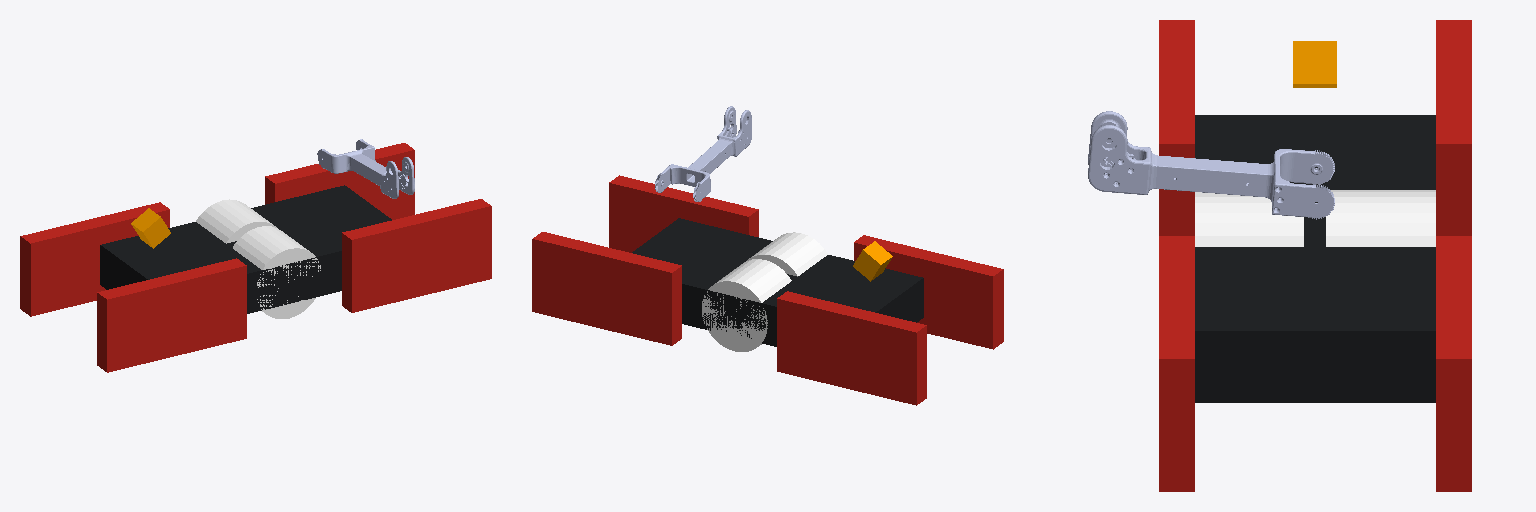
robot.urdf — Lotti:
<?xml version="1.0" ?>
<!-- =================================================================================== -->
<!-- |    This document was autogenerated by xacro from Lotti.urdf.xacro               | -->
<!-- |    EDITING THIS FILE BY HAND IS NOT RECOMMENDED                                 | -->
<!-- =================================================================================== -->
<robot name="Lotti">
  <material name="red">
    <color rgba="0.8 0.17254901960784313 0.1411764705882353 1"/>
  </material>
  <material name="black">
    <color rgba="0.15294117647058825 0.1607843137254902 0.16862745098039217 1"/>
  </material>
  <material name="orange">
    <color rgba="1.0 0.6470588235294118 0.0 1"/>
  </material>
  <material name="white">
    <color rgba="1.0 1.0 1.0 1"/>
  </material>
  <joint name="arm_base_joint" type="fixed">
    <origin rpy="0 0 3.141592653589793" xyz="0.24999999999999997 0 0.15"/>
    <parent link="body_link"/>
    <child link="arm_base_link"/>
  </joint>
  <link name="arm_base_link">
    <inertial>
      <origin rpy="0 0 0" xyz="-0.00263222915365038 -0.000332098550481226 0.0476250352231148"/>
      <mass value="0.200226640012258"/>
      <inertia ixx="0.00030515518623871" ixy="5.9193755234795E-09" ixz="-5.48255039093506E-06" iyy="0.000183595401496948" iyz="3.03172951946039E-10" izz="0.000356726067861412"/>
    </inertial>
    <visual>
      <origin rpy="0 0 0" xyz="0 0 0"/>
      <geometry>
        <mesh filename="package://lotti_control/description/meshes/arm_base_link.STL"/>
      </geometry>
      <material name="black"/>
    </visual>
    <collision>
      <origin rpy="0 0 0" xyz="0 0 0"/>
      <geometry>
        <mesh filename="package://lotti_control/description/meshes/arm_base_link.STL"/>
      </geometry>
    </collision>
  </link>
  <link name="arm_link1_link">
    <inertial>
      <origin rpy="0 0 0" xyz="4.41542086226931E-09 0.000122631739122248 0.0356096098271416"/>
      <mass value="0.227235996796303"/>
      <inertia ixx="0.000180809625442164" ixy="1.99972159337586E-12" ixz="3.65735427518995E-13" iyy="0.000141436764733896" iyz="-1.12077733619125E-07" izz="0.000174149091246638"/>
    </inertial>
    <visual>
      <origin rpy="0 0 0" xyz="0 0 0"/>
      <geometry>
        <mesh filename="package://lotti_control/description/meshes/arm_link1_link.STL"/>
      </geometry>
      <material name="red"/>
    </visual>
    <collision>
      <origin rpy="0 0 0" xyz="0 0 0"/>
      <geometry>
        <mesh filename="package://lotti_control/description/meshes/arm_link1_link.STL"/>
      </geometry>
    </collision>
  </link>
  <joint name="arm_link1_joint" type="revolute">
    <origin rpy="0 0 3.1416" xyz="0 0 0.0813"/>
    <parent link="arm_base_link"/>
    <child link="arm_link1_link"/>
    <axis xyz="0 0 -1"/>
    <limit effort="3" lower="0" upper="3.2" velocity="1"/>
  </joint>
  <link name="arm_link2_link">
    <inertial>
      <origin rpy="0 0 0" xyz="-0.0048507016693122 0.000134479355761746 0.151153269049844"/>
      <mass value="0.308407355142343"/>
      <inertia ixx="0.000536262443976751" ixy="-5.59401799937812E-07" ixz="4.55969735855309E-05" iyy="0.000463619869555736" iyz="-5.41211706294874E-05" izz="0.00028846239166877"/>
    </inertial>
    <visual>
      <origin rpy="0 0 0" xyz="0 0 0"/>
      <geometry>
        <mesh filename="package://lotti_control/description/meshes/arm_link2_link.STL"/>
      </geometry>
      <material name="">
        <color rgba="0.792156862745098 0.819607843137255 0.933333333333333 1"/>
      </material>
    </visual>
    <collision>
      <origin rpy="0 0 0" xyz="0 0 0"/>
      <geometry>
        <mesh filename="package://lotti_control/description/meshes/arm_link2_link.STL"/>
      </geometry>
    </collision>
  </link>
  <joint name="arm_link2_joint" type="revolute">
    <origin rpy="0 1.4835 -1.5708" xyz="0 0.002 0.093"/>
    <parent link="arm_link1_link"/>
    <child link="arm_link2_link"/>
    <axis xyz="0 1 0"/>
    <limit effort="3" lower="-3" upper="0.2" velocity="1"/>
  </joint>
  <link name="arm_link3_link">
    <inertial>
      <origin rpy="0 0 0" xyz="-2.34730375641978E-05 0.000222724116048956 0.121657320094858"/>
      <mass value="0.215223683624819"/>
      <inertia ixx="0.000187887481718192" ixy="1.29568722040644E-09" ixz="-2.48383575759051E-09" iyy="0.000177005795528886" iyz="-1.95381298527238E-05" izz="5.96362197609908E-05"/>
    </inertial>
    <visual>
      <origin rpy="0 0 0" xyz="0 0 0"/>
      <geometry>
        <mesh filename="package://lotti_control/description/meshes/arm_link3_link.STL"/>
      </geometry>
      <material name="">
        <color rgba="0.792156862745098 0.819607843137255 0.933333333333333 1"/>
      </material>
    </visual>
    <collision>
      <origin rpy="0 0 0" xyz="0 0 0"/>
      <geometry>
        <mesh filename="package://lotti_control/description/meshes/arm_link3_link.STL"/>
      </geometry>
    </collision>
  </link>
  <joint name="arm_link3_joint" type="revolute">
    <origin rpy="-3.1416 -0.087266 -3.1416" xyz="-0.05 0 0.29"/>
    <parent link="arm_link2_link"/>
    <child link="arm_link3_link"/>
    <axis xyz="0 1 0"/>
    <limit effort="3" lower="-0.15" upper="2.9" velocity="1"/>
  </joint>
  <link name="arm_link4_link">
    <inertial>
      <origin rpy="0 0 0" xyz="-6.45090288222683E-05 -2.78077069245236E-05 0.0421410408275518"/>
      <mass value="0.0799976203193007"/>
      <inertia ixx="2.98275167277768E-05" ixy="-3.7887086534939E-10" ixz="2.42643938146603E-10" iyy="1.60577540866642E-05" iyz="1.06831058124334E-09" izz="2.00421216012606E-05"/>
    </inertial>
    <visual>
      <origin rpy="0 0 0" xyz="0 0 0"/>
      <geometry>
        <mesh filename="package://lotti_control/description/meshes/arm_link4_link.STL"/>
      </geometry>
      <material name="red"/>
    </visual>
    <collision>
      <origin rpy="0 0 0" xyz="0 0 0"/>
      <geometry>
        <mesh filename="package://lotti_control/description/meshes/arm_link4_link.STL"/>
      </geometry>
    </collision>
  </link>
  <joint name="arm_link4_joint" type="revolute">
    <origin rpy="0 -1.5 0" xyz="0 0.0006 0.26473"/>
    <parent link="arm_link3_link"/>
    <child link="arm_link4_link"/>
    <axis xyz="0 1 0"/>
    <limit effort="3" lower="0" upper="3" velocity="1"/>
  </joint>
  <link name="arm_link5_link">
    <inertial>
      <origin rpy="0 0 0" xyz="0.00382150605784218 -7.85621768924077E-05 0.0340017507140268"/>
      <mass value="0.0824183861074926"/>
      <inertia ixx="1.34651970301422E-05" ixy="1.06510176549428E-09" ixz="7.33151583060291E-09" iyy="3.06523685609497E-05" iyz="3.77177397775468E-10" izz="3.09091303833254E-05"/>
    </inertial>
    <visual>
      <origin rpy="0 0 0" xyz="0 0 0"/>
      <geometry>
        <mesh filename="package://lotti_control/description/meshes/arm_link5_link.STL"/>
      </geometry>
      <material name="black"/>
    </visual>
    <collision>
      <origin rpy="0 0 0" xyz="0 0 0"/>
      <geometry>
        <mesh filename="package://lotti_control/description/meshes/arm_link5_link.STL"/>
      </geometry>
    </collision>
  </link>
  <joint name="arm_link5_joint" type="revolute">
    <origin rpy="-1.5 0 0" xyz="-0.00055 0.0001 0.074331"/>
    <parent link="arm_link4_link"/>
    <child link="arm_link5_link"/>
    <axis xyz="1 0 0"/>
    <limit effort="3" lower="0" upper="3" velocity="2"/>
  </joint>
  <link name="arm_link6_link">
    <inertial>
      <origin rpy="0 0 0" xyz="0.0143574958730443 0.0022820490392805 0.0446512981777231"/>
      <mass value="0.110464975833159"/>
      <inertia ixx="3.80573356318646E-05" ixy="-6.92148846731947E-08" ixz="-1.6145100576273E-06" iyy="2.62917054320962E-05" iyz="7.34627654398345E-09" izz="1.59336336306205E-05"/>
    </inertial>
    <visual>
      <origin rpy="0 0 0" xyz="0 0 0"/>
      <geometry>
        <mesh filename="package://lotti_control/description/meshes/arm_link6_link.STL"/>
      </geometry>
      <material name="orange"/>
    </visual>
    <collision>
      <origin rpy="0 0 0" xyz="0 0 0"/>
      <geometry>
        <mesh filename="package://lotti_control/description/meshes/arm_link6_link.STL"/>
      </geometry>
    </collision>
  </link>
  <joint name="arm_link6_joint" type="revolute">
    <origin rpy="0 0 0" xyz="0.022033 0 0.0668"/>
    <parent link="arm_link5_link"/>
    <child link="arm_link6_link"/>
    <axis xyz="0 0 1"/>
    <limit effort="3" lower="-3" upper="3" velocity="1"/>
  </joint>
  <!-- <joint name="world_joint" type="floating">
        <origin xyz="0 0 0" rpy="0 0 0"/>
        <parent link="world"/>
        <child link="body_link"/>
        <axis xyz="0 0 0"/>
    </joint>  -->
  <link name="body_link">
    <visual>
      <origin rpy="0 0 0" xyz="0 0 0.095"/>
      <geometry>
        <box size="0.7 0.33 0.10999999999999999"/>
      </geometry>
      <material name="black"/>
    </visual>
    <collision>
      <origin rpy="0 0 0" xyz="0 0 0.075"/>
      <geometry>
        <box size="0.1 0.1 0.1"/>
        <!-- <box size="${body_length} ${body_width} ${body_height}"/> -->
      </geometry>
    </collision>
    <innertial/>
    <!-- <xacro:inertial_box mass="${body_mass}" x="${body_length}" y="${body_width}" z="${body_height}">
            <origin rpy="0 0 0" xyz="0 0 ${(body_height/2)}"/>
        </xacro:inertial_box> -->
  </link>
  <!-- Left Chain-->
  <!-- Main Wheel-->
  <joint name="left_chain_joint" type="continuous">
    <origin rpy="0 0 0" xyz="0 0.09000000000000001 0.095"/>
    <parent link="body_link"/>
    <child link="left_main_wheel_link"/>
    <axis xyz="0 1 0"/>
  </joint>
  <link name="left_main_wheel_link">
    <visual>
      <origin rpy="1.5707963267948966 0 0" xyz="0 0 0"/>
      <geometry>
        <cylinder length="0.15" radius="0.095"/>
      </geometry>
      <material name="white"/>
    </visual>
    <collision>
      <origin rpy="1.5707963267948966 0 0" xyz="0 0 0"/>
      <geometry>
        <cylinder length="0.15" radius="0.095"/>
      </geometry>
    </collision>
    <inertial>
      <origin rpy="1.5707963267948966 0 0" xyz="0 0 0"/>
      <mass value="1"/>
      <inertia ixx="0.0041312499999999995" ixy="0.0" ixz="0.0" iyy="0.0041312499999999995" iyz="0.0" izz="0.0045125"/>
    </inertial>
  </link>
  <!-- Right Chain-->
  <!-- Main Wheel-->
  <joint name="right_chain_joint" type="continuous">
    <origin rpy="0 0 0" xyz="0 -0.09000000000000001 0.095"/>
    <parent link="body_link"/>
    <child link="right_main_wheel_link"/>
    <axis xyz="0 1 0"/>
  </joint>
  <link name="right_main_wheel_link">
    <visual>
      <origin rpy="1.5707963267948966 0 0" xyz="0 0 0"/>
      <geometry>
        <cylinder length="0.15" radius="0.095"/>
      </geometry>
      <material name="white"/>
    </visual>
    <collision>
      <origin rpy="1.5707963267948966 0 0" xyz="0 0 0"/>
      <geometry>
        <cylinder length="0.15" radius="0.095"/>
      </geometry>
    </collision>
    <inertial>
      <origin rpy="1.5707963267948966 0 0" xyz="0 0 0"/>
      <mass value="1"/>
      <inertia ixx="0.0041312499999999995" ixy="0.0" ixz="0.0" iyy="0.0041312499999999995" iyz="0.0" izz="0.0045125"/>
    </inertial>
  </link>
  <!-- Front Left Flipper-->
  <joint name="flipper_fr_joint" type="continuous">
    <origin rpy="0 3.141592653589793 0" xyz="0.24999999999999997 0.19 0.1"/>
    <parent link="body_link"/>
    <child link="flipper_fr_link"/>
    <axis xyz="0 1 0"/>
    <!-- <limit effort="100" lower="-1.5707963267948966" upper="1.5707963267948966" velocity="10"/> 
        -->
  </joint>
  <link name="flipper_fr_link">
    <visual>
      <origin rpy="0 0 0" xyz="-0.1 0 0"/>
      <geometry>
        <box size="0.4 0.05 0.2"/>
      </geometry>
      <material name="red"/>
    </visual>
    <collision>
      <origin rpy="0 0 0" xyz="-0.1 0 0"/>
      <geometry>
        <box size="0.4 0.05 0.2"/>
      </geometry>
    </collision>
    <inertial>
      <origin rpy="0 0 0" xyz="-0.1 0 0"/>
      <mass value="2.0"/>
      <inertia ixx="0.007083333333333335" ixy="0.0" ixz="0.0" iyy="0.03333333333333334" iyz="0.0" izz="0.03333333333333334"/>
    </inertial>
  </link>
  <!-- Front Right Flipper-->
  <joint name="flipper_fl_joint" type="continuous">
    <origin rpy="0 3.141592653589793 0" xyz="0.24999999999999997 -0.19 0.1"/>
    <parent link="body_link"/>
    <child link="flipper_fl_link"/>
    <axis xyz="0 1 0"/>
    <!-- <limit effort="100" lower="-1.5707963267948966" upper="1.5707963267948966" velocity="10"/> 
        -->
  </joint>
  <link name="flipper_fl_link">
    <visual>
      <origin rpy="0 0 0" xyz="-0.1 0 0"/>
      <geometry>
        <box size="0.4 0.05 0.2"/>
      </geometry>
      <material name="red"/>
    </visual>
    <collision>
      <origin rpy="0 0 0" xyz="-0.1 0 0"/>
      <geometry>
        <box size="0.4 0.05 0.2"/>
      </geometry>
    </collision>
    <inertial>
      <origin rpy="0 0 0" xyz="-0.1 0 0"/>
      <mass value="2.0"/>
      <inertia ixx="0.007083333333333335" ixy="0.0" ixz="0.0" iyy="0.03333333333333334" iyz="0.0" izz="0.03333333333333334"/>
    </inertial>
  </link>
  <!-- Rear Left Flipper-->
  <joint name="flipper_rr_joint" type="continuous">
    <origin rpy="0 0 0" xyz="-0.24999999999999997 0.19 0.1"/>
    <parent link="body_link"/>
    <child link="flipper_rr_link"/>
    <axis xyz="0 -1 0"/>
    <!-- <limit effort="100" lower="-1.5707963267948966" upper="1.5707963267948966" velocity="10"/> 
        -->
  </joint>
  <link name="flipper_rr_link">
    <visual>
      <origin rpy="0 0 0" xyz="-0.1 0 0"/>
      <geometry>
        <box size="0.4 0.05 0.2"/>
      </geometry>
      <material name="red"/>
    </visual>
    <collision>
      <origin rpy="0 0 0" xyz="-0.1 0 0"/>
      <geometry>
        <box size="0.4 0.05 0.2"/>
      </geometry>
    </collision>
    <inertial>
      <origin rpy="0 0 0" xyz="-0.1 0 0"/>
      <mass value="2.0"/>
      <inertia ixx="0.007083333333333335" ixy="0.0" ixz="0.0" iyy="0.03333333333333334" iyz="0.0" izz="0.03333333333333334"/>
    </inertial>
  </link>
  <!-- Rear Right Flipper-->
  <joint name="flipper_rl_joint" type="continuous">
    <origin rpy="0 0 0" xyz="-0.24999999999999997 -0.19 0.1"/>
    <parent link="body_link"/>
    <child link="flipper_rl_link"/>
    <axis xyz="0 -1 0"/>
    <!-- <limit effort="100" lower="-1.5707963267948966" upper="1.5707963267948966" velocity="10"/> 
        -->
  </joint>
  <link name="flipper_rl_link">
    <visual>
      <origin rpy="0 0 0" xyz="-0.1 0 0"/>
      <geometry>
        <box size="0.4 0.05 0.2"/>
      </geometry>
      <material name="red"/>
    </visual>
    <collision>
      <origin rpy="0 0 0" xyz="-0.1 0 0"/>
      <geometry>
        <box size="0.4 0.05 0.2"/>
      </geometry>
    </collision>
    <inertial>
      <origin rpy="0 0 0" xyz="-0.1 0 0"/>
      <mass value="2.0"/>
      <inertia ixx="0.007083333333333335" ixy="0.0" ixz="0.0" iyy="0.03333333333333334" iyz="0.0" izz="0.03333333333333334"/>
    </inertial>
  </link>
  <!-- Sensors -->
  <!-- LiDAR -->
  <joint name="lidar_joint" type="fixed">
    <origin rpy="0 -0.5235987755982988 0" xyz="-0.3 0 0.25"/>
    <parent link="body_link"/>
    <child link="lidar_link"/>
  </joint>
  <link name="lidar_link">
    <visual>
      <origin rpy="0 0 0" xyz="0 0 0"/>
      <geometry>
        <box size="0.06 0.06 0.06"/>
      </geometry>
      <material name="orange"/>
    </visual>
    <collision>
      <origin rpy="0 0 0" xyz="0 0 0"/>
      <geometry>
        <box size="0.06 0.06 0.06"/>
      </geometry>
    </collision>
    <innertial/>
  </link>
  <!-- Arduino device IDs
    /dev/serial/by-id/
    Uno1 usb-Arduino__www.arduino.cc__0043_8503331313735151A0F0-if00
    Uno2 usb-Arduino__www.arduino.cc__0043_85033313137351919182-if00
    Uno3 usb-Arduino__www.arduino.cc__0043_03536383236351E0A111-if00
    Uno4 usb-Arduino__www.arduino.cc__0043_035363832363516043D2-if00
    Mega1 usb-Arduino__www.arduino.cc__0042_950353139353515082C1-if00
    Mega2 usb-Arduino__www.arduino.cc__0042_8513030353835180A0B1-if00
    usb-Arduino_LLC_Arduino_Leonardo-if00
    -->
  <ros2_control name="LottiArm" rw_rate="20" type="system">
    <hardware>
      <plugin>arm_interface/ArmInterface</plugin>
      <param name="device">/dev/serial/by-id/usb-Arduino_LLC_Arduino_Leonardo-if00</param>
      <param name="maxSpeed">2000</param>
    </hardware>
    <joint name="arm_link1_joint">
      <command_interface name="position"/>
      <command_interface name="velocity"/>
      <state_interface name="position"/>
      <state_interface name="velocity"/>
      <!-- <state_interface name="torque"/>
            <state_interface name="volt"/> -->
    </joint>
    <joint name="arm_link2_joint">
      <command_interface name="position"/>
      <command_interface name="velocity"/>
      <state_interface name="position"/>
      <state_interface name="velocity"/>
      <!-- <state_interface name="torque"/>
            <state_interface name="volt"/> -->
    </joint>
    <joint name="arm_link3_joint">
      <command_interface name="position"/>
      <command_interface name="velocity"/>
      <state_interface name="position"/>
      <state_interface name="velocity"/>
      <!-- <state_interface name="torque"/>
            <state_interface name="volt"/> -->
    </joint>
    <joint name="arm_link4_joint">
      <command_interface name="position"/>
      <command_interface name="velocity"/>
      <state_interface name="position"/>
      <state_interface name="velocity"/>
      <!-- <state_interface name="torque"/>
            <state_interface name="volt"/> -->
    </joint>
    <joint name="arm_link5_joint">
      <command_interface name="position"/>
      <command_interface name="velocity"/>
      <state_interface name="position"/>
      <state_interface name="velocity"/>
      <!-- <state_interface name="torque"/>
            <state_interface name="volt"/> -->
    </joint>
    <joint name="arm_link6_joint">
      <command_interface name="position"/>
      <command_interface name="velocity"/>
      <state_interface name="position"/>
      <state_interface name="velocity"/>
      <!-- <state_interface name="torque"/>
            <state_interface name="volt"/> -->
    </joint>
  </ros2_control>
  <ros2_control name="LottiFlipper" rw_rate="20" type="system">
    <hardware>
      <plugin>flipper_interface/FlipperInterface</plugin>
      <!-- <param name="device">/dev/serial/by-id/usb-Arduino__www.arduino.cc__0043_8503331313735151A0F0-if00</param> -->
    </hardware>
    <joint name="flipper_fr_joint">
      <command_interface name="velocity"/>
      <state_interface name="position"/>
    </joint>
    <joint name="flipper_fl_joint">
      <command_interface name="velocity"/>
      <state_interface name="position"/>
    </joint>
    <joint name="flipper_rr_joint">
      <command_interface name="velocity"/>
      <state_interface name="position"/>
    </joint>
    <joint name="flipper_rl_joint">
      <command_interface name="velocity"/>
      <state_interface name="position"/>
    </joint>
  </ros2_control>
  <ros2_control name="LottiChains" type="system">
    <hardware>
      <plugin>drive_interface/DriveInterface</plugin>
      <param name="device">/dev/serial/by-id/usb-FTDI_USB__-__Serial_Converter_FTA2HIEQ-if00-port0</param>
      <param name="max_speed">25</param>
      <param name="max_torque">15</param>
      <!-- <plugin>diffdrive_lotti/DiffDriveLotti</plugin> -->
      <!-- <param name="left_wheel_name">left_chain_joint</param> -->
      <!-- <param name="right_wheel_name">right_chain_joint</param> -->
    </hardware>
    <joint name="left_chain_joint">
      <command_interface name="velocity"/>
      <state_interface name="position"/>
      <state_interface name="velocity"/>
      <state_interface name="torque"/>
      <state_interface name="temp"/>
    </joint>
    <joint name="right_chain_joint">
      <command_interface name="velocity"/>
      <state_interface name="position"/>
      <state_interface name="velocity"/>
      <state_interface name="torque"/>
      <state_interface name="temp"/>
    </joint>
  </ros2_control>
  <!-- <ros2_control name="LottiChains" type="system">
        <hardware>
            <plugin>diffdrive_lotti/DiffDriveLotti</plugin>
            <param name="left_wheel_name">left_chain_joint</param>
            <param name="right_wheel_name">right_chain_joint</param>
        </hardware>
        <joint name="left_chain_joint">
            <command_interface name="velocity"/>
            <state_interface name="position"/>
            <state_interface name="velocity"/>
        </joint>
        <joint name="right_chain_joint">
            <command_interface name="velocity"/>
            <state_interface name="position"/>
            <state_interface name="velocity"/>
        </joint>
    </ros2_control> -->
  <!-- world origin -->
  <!-- <link name="world"></link> -->
</robot>

--- Render facts (derived) ---
Views: 3 orthographic renders of the robot side by side, from view 1: azimuth 30°, elevation 25°; view 2: azimuth 150°, elevation 25°; view 3: azimuth 270°, elevation 25°.
Robot: Lotti — 15 links, 14 joints (6 revolute, 6 continuous, 2 fixed); root link body_link; default pose: every joint at zero.
Links seen in each view (by area): view 1: body_link, flipper_fl_link, flipper_rl_link, flipper_rr_link, flipper_fr_link, right_main_wheel_link, arm_link2_link, left_main_wheel_link, lidar_link; view 2: body_link, flipper_rr_link, flipper_fr_link, flipper_rl_link, flipper_fl_link, left_main_wheel_link, arm_link2_link, right_main_wheel_link, lidar_link; view 3: body_link, arm_link2_link, flipper_fr_link, flipper_fl_link, flipper_rr_link, flipper_rl_link, left_main_wheel_link, right_main_wheel_link, lidar_link.
Boxes of the visible links, x1,y1,x2,y2 form: body_link: (100, 185, 391, 313); flipper_fl_link: (342, 199, 491, 312); flipper_rl_link: (97, 258, 246, 372); flipper_rr_link: (20, 202, 169, 316); flipper_fr_link: (265, 143, 414, 219); right_main_wheel_link: (233, 226, 320, 318); arm_link2_link: (317, 139, 414, 198); left_main_wheel_link: (196, 199, 276, 243); lidar_link: (131, 208, 170, 248); body_link: (632, 218, 923, 346); flipper_rr_link: (777, 291, 926, 405); flipper_fr_link: (532, 232, 681, 345); flipper_rl_link: (854, 235, 1003, 349); flipper_fl_link: (609, 175, 758, 252); left_main_wheel_link: (702, 259, 791, 351); arm_link2_link: (655, 106, 751, 201); right_main_wheel_link: (747, 232, 827, 276); lidar_link: (853, 241, 892, 281); body_link: (1195, 115, 1435, 402); arm_link2_link: (1088, 111, 1334, 219); flipper_fr_link: (1436, 236, 1471, 491); flipper_fl_link: (1159, 236, 1194, 491); flipper_rr_link: (1436, 20, 1471, 235); flipper_rl_link: (1159, 20, 1194, 235); left_main_wheel_link: (1326, 190, 1435, 246); right_main_wheel_link: (1195, 192, 1303, 246); lidar_link: (1293, 41, 1336, 87).
Bounding box of the posed robot: 1.1 × 0.5269 × 0.4244 m (x, y, z).
1 mesh visuals loaded from 7 distinct referenced files (1 binary STL); not drawn: 1 (reference not matched to a file when rendering), 5 (file found but could not be loaded).
